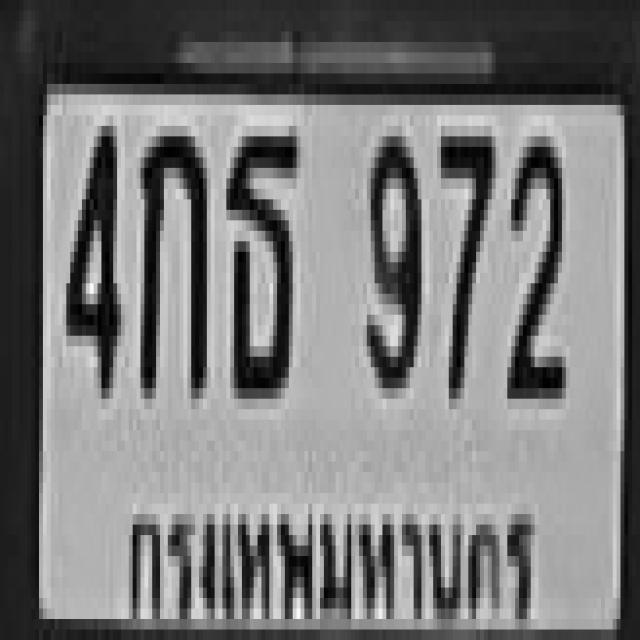10GorGai: (137, 115, 203, 388)
2: (503, 126, 562, 388)
33ThorThong: (222, 126, 296, 388)
4: (63, 115, 117, 388)
7: (437, 126, 492, 388)
9: (363, 131, 417, 383)
Bangkok: (115, 466, 547, 640)
